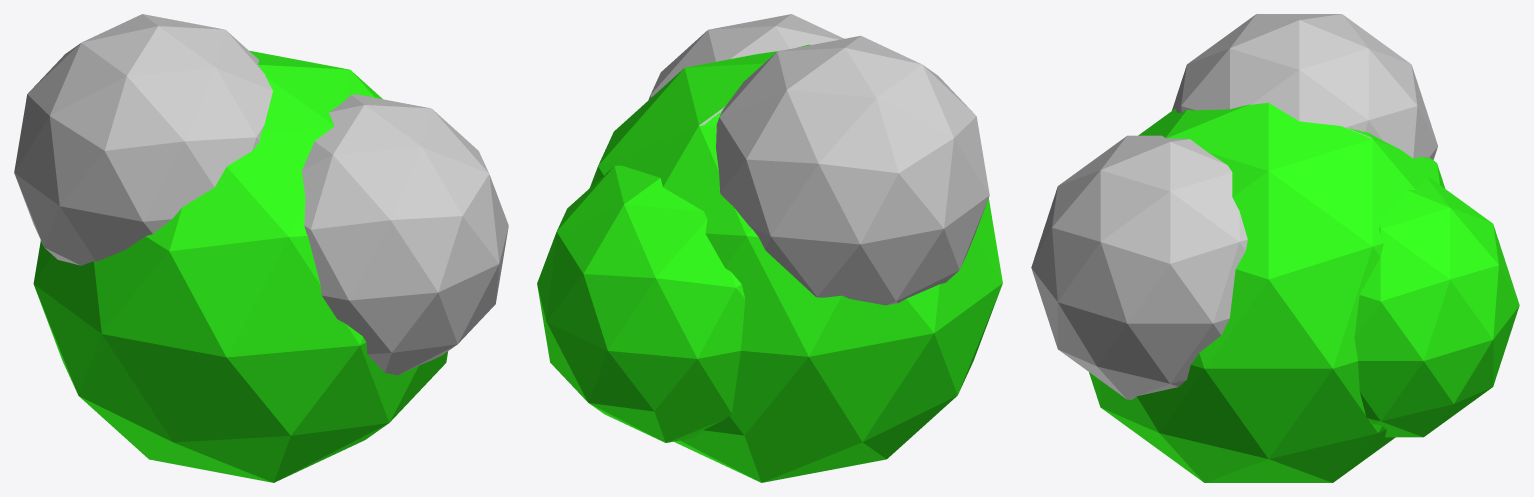
File: shrub.glb
The picture shows the model from 3 angles, left to right: view 1: azimuth 30°, elevation 25°; view 2: azimuth 150°, elevation 25°; view 3: azimuth 270°, elevation 25°; orthographic projection. The views are drawn at different scales.
Visible parts, largest first — view 1: Icosphere, Icosphere.003, Icosphere.002; view 2: Icosphere, Icosphere.003, Icosphere.001, Icosphere.002; view 3: Icosphere, Icosphere.002, Icosphere.001, Icosphere.003.
Part boxes in pixels (x1,y1,x2,y2): Icosphere: (33, 50, 447, 482); Icosphere.003: (14, 14, 272, 265); Icosphere.002: (302, 94, 508, 375); Icosphere: (590, 44, 1002, 482); Icosphere.003: (716, 35, 989, 305); Icosphere.001: (537, 165, 745, 442); Icosphere.002: (648, 14, 843, 99); Icosphere: (1089, 103, 1445, 482); Icosphere.002: (1031, 135, 1247, 399); Icosphere.001: (1354, 177, 1519, 437); Icosphere.003: (1172, 14, 1437, 159).
Size of the model in its own units: 1.99 by 2.22 by 2.35.
Materials: 4 (4 with a texture image).
